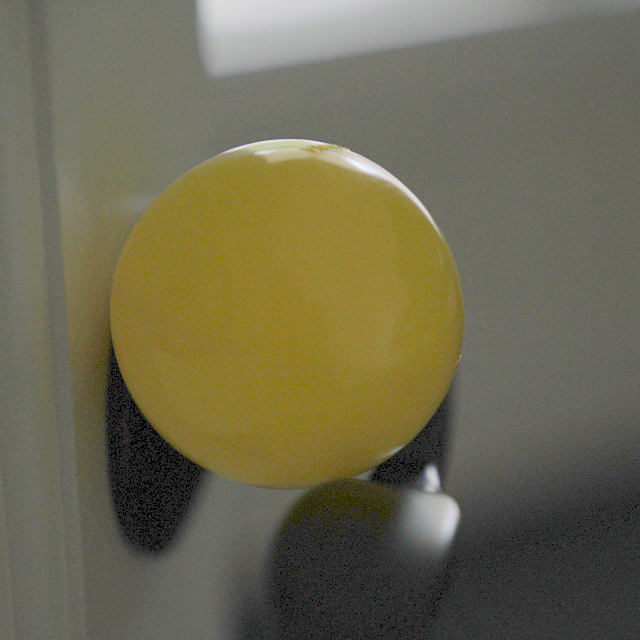Ball: (101, 144, 461, 489)
